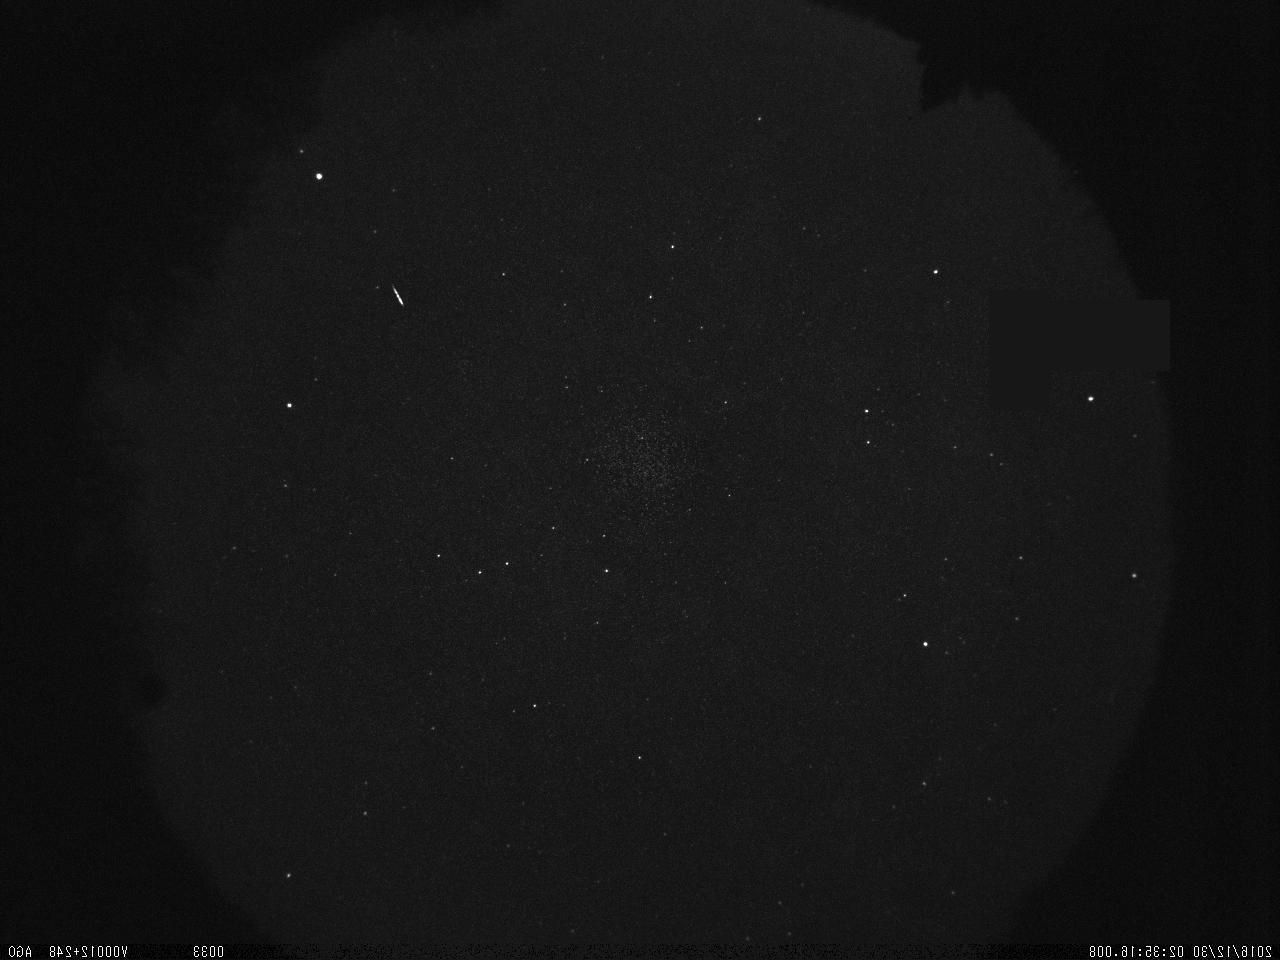meteor: (376, 271, 422, 322)
